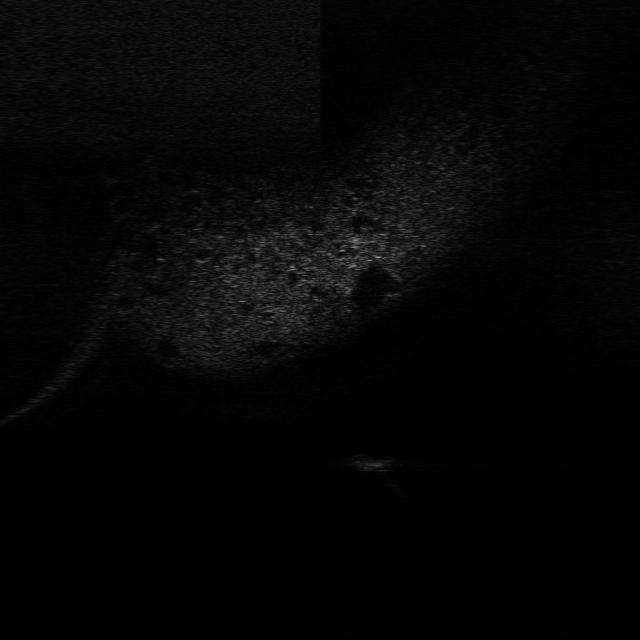cube: (344, 450, 400, 476)
